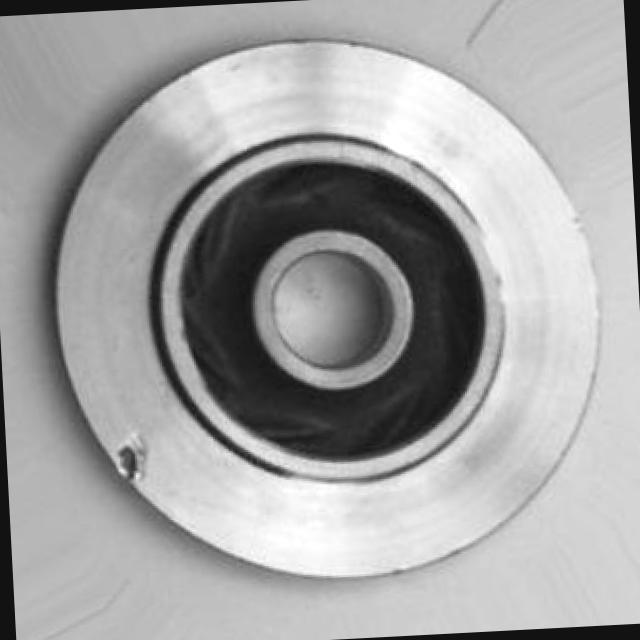Defect: (103, 432, 156, 499)
